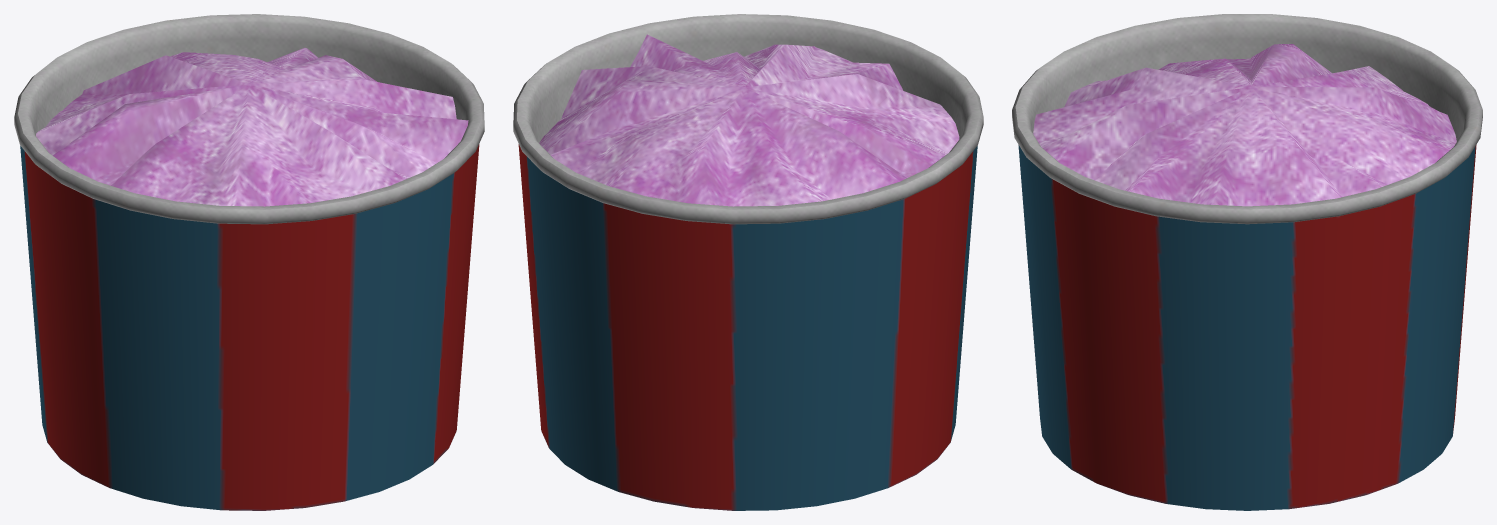
File: popcorn2.fbx
The picture shows the model from 3 angles, left to right: view 1: azimuth 30°, elevation 25°; view 2: azimuth 150°, elevation 25°; view 3: azimuth 270°, elevation 25°; orthographic projection.
Visible parts, largest first — view 1: SM_bucket_redwhite_popcorn__1_; view 2: SM_bucket_redwhite_popcorn__1_; view 3: SM_bucket_redwhite_popcorn__1_.
Part boxes in pixels (x1,y1,x2,y2): SM_bucket_redwhite_popcorn__1_: (14,14,484,510); SM_bucket_redwhite_popcorn__1_: (513,14,983,510); SM_bucket_redwhite_popcorn__1_: (1012,14,1482,510).
Size of the model in its own units: 23.01 by 18.21 by 23.04.
